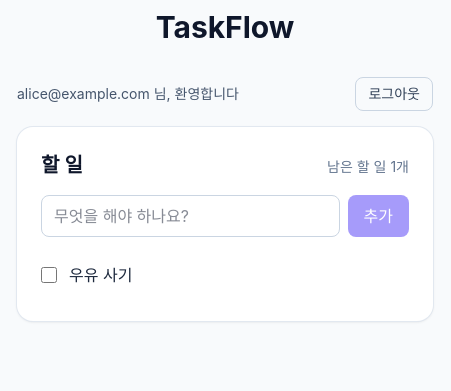
Scenario: 할 일 완료 체크 › 변경에 실패하면 원래 상태를 유지하고 에러를 보여준다
Check: the heading "할 일" is shown, box [41,151,83,179]
Step 1. Click the checkbox labelled "우유 사기" → coordinates (49, 275), box [41,267,57,283]
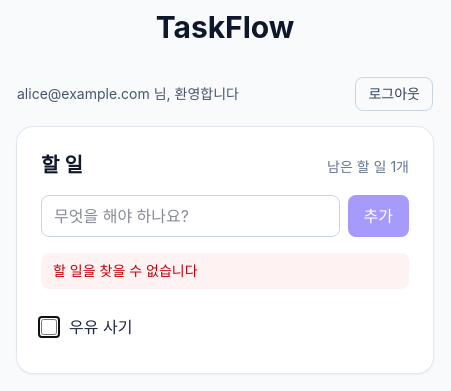
Check: the checkbox labelled "우유 사기" is not checked, box [41,319,57,335]
Check: the message reads "할 일을 찾을 수 없습니다", box [53,262,198,279]
